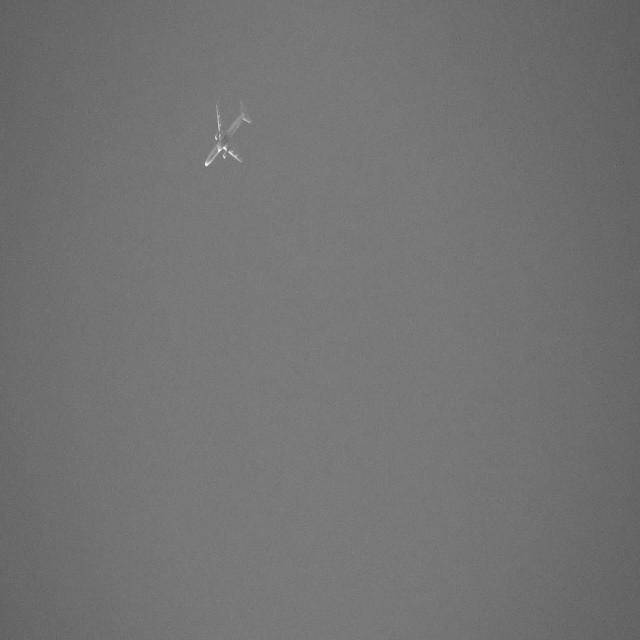aeroplane: (202, 94, 250, 172)
